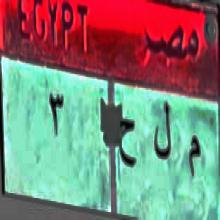3: (46, 92, 68, 142)
7aa: (118, 110, 140, 176)
laam: (151, 100, 174, 168)
meem: (185, 123, 204, 185)
